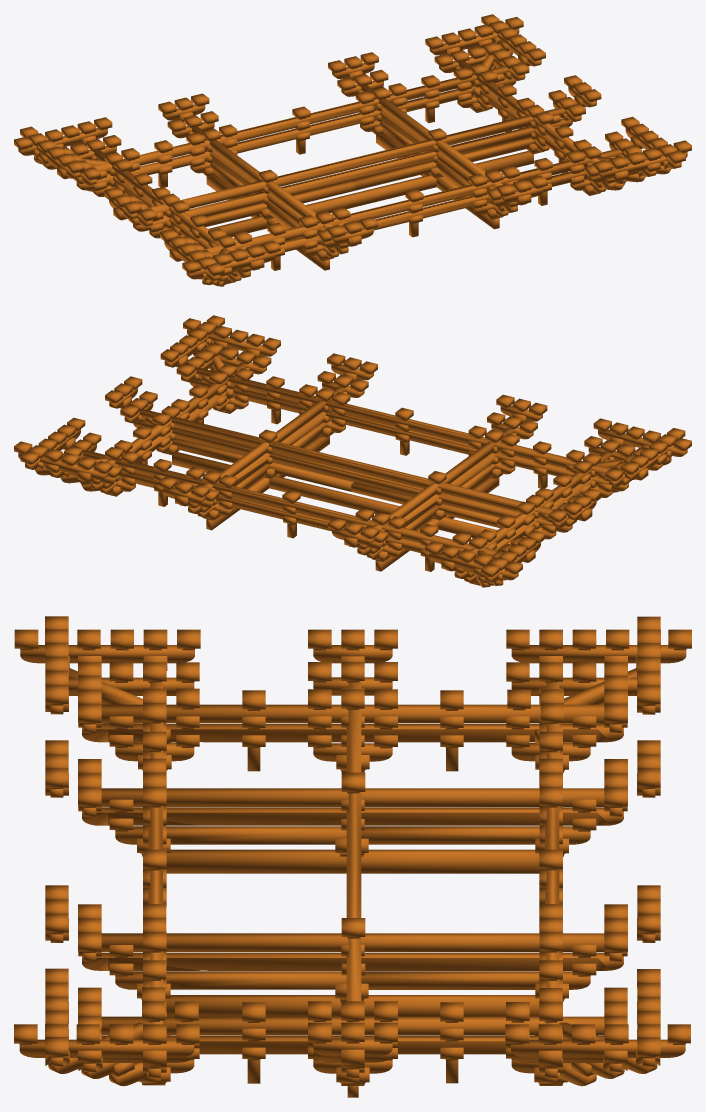
File: building_08.glb
3 views of the same model, one above another, from view 1: azimuth 30°, elevation 25°; view 2: azimuth 150°, elevation 25°; view 3: azimuth 270°, elevation 25° (orthographic). The views are drawn at different scales.
Parts seen in each view (by area): view 1: full_building.008; view 2: full_building.008; view 3: full_building.008.
Boxes of the visible parts, x1,y1,x2,y2 form: full_building.008: [14, 14, 691, 286]; full_building.008: [14, 315, 691, 587]; full_building.008: [14, 616, 691, 1097].
Bounding box in the file's own units: 3.92 × 0.4778 × 2.6.
